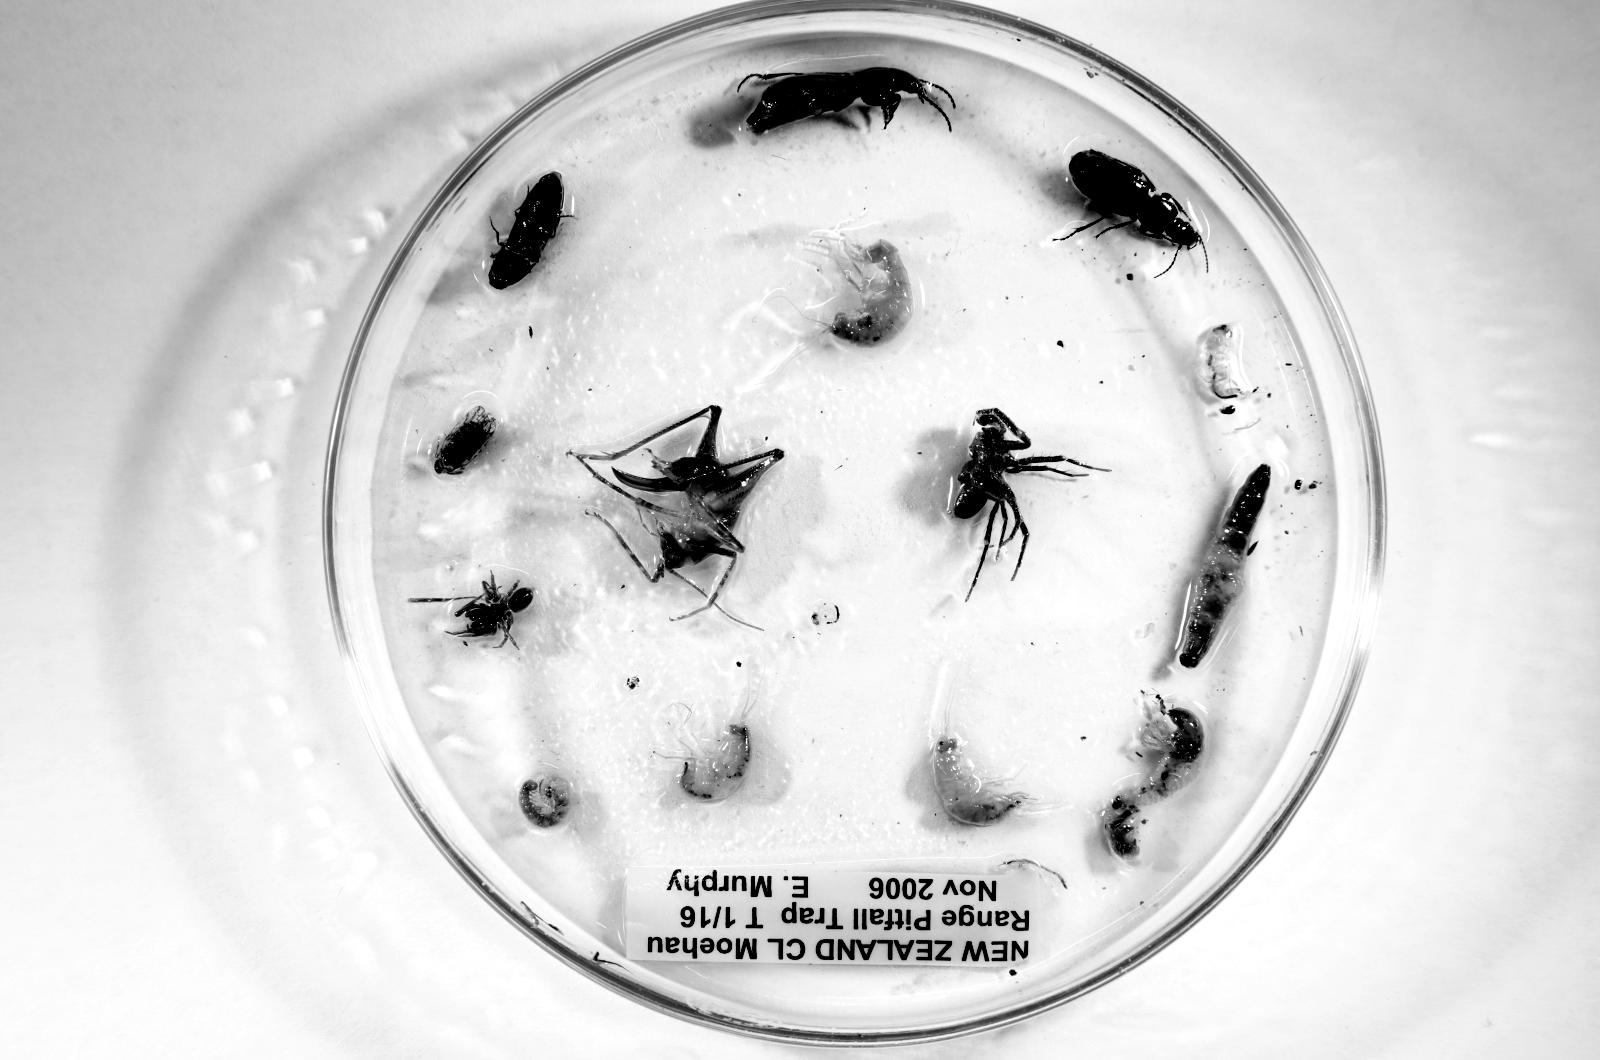amphipoda: (931, 705, 1060, 826), (831, 240, 912, 347), (658, 723, 752, 801), (1200, 323, 1255, 399)
araneae: (948, 408, 1109, 580), (453, 573, 535, 648)
carabidae: (743, 67, 950, 136), (1069, 149, 1203, 248)
coleoptera: (490, 172, 574, 289)
coleoptera_larva: (1102, 694, 1204, 866)
diplopoda: (519, 773, 571, 828)
orthoptera: (568, 405, 784, 582)
